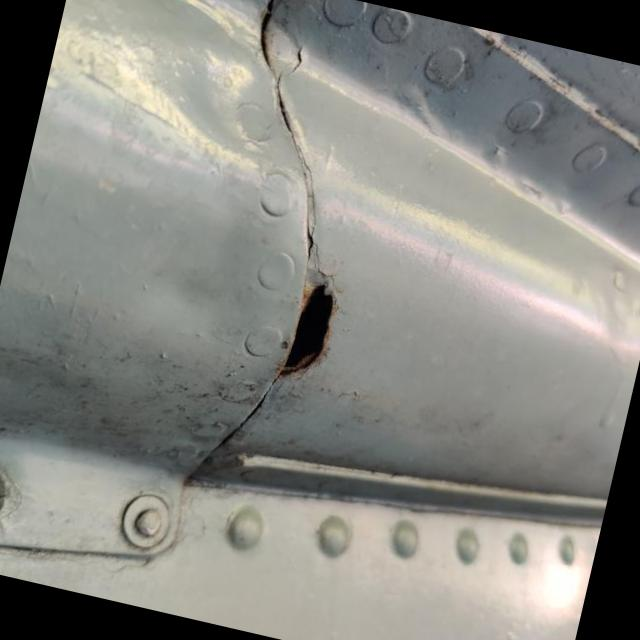Crack: (269, 265, 339, 385)
